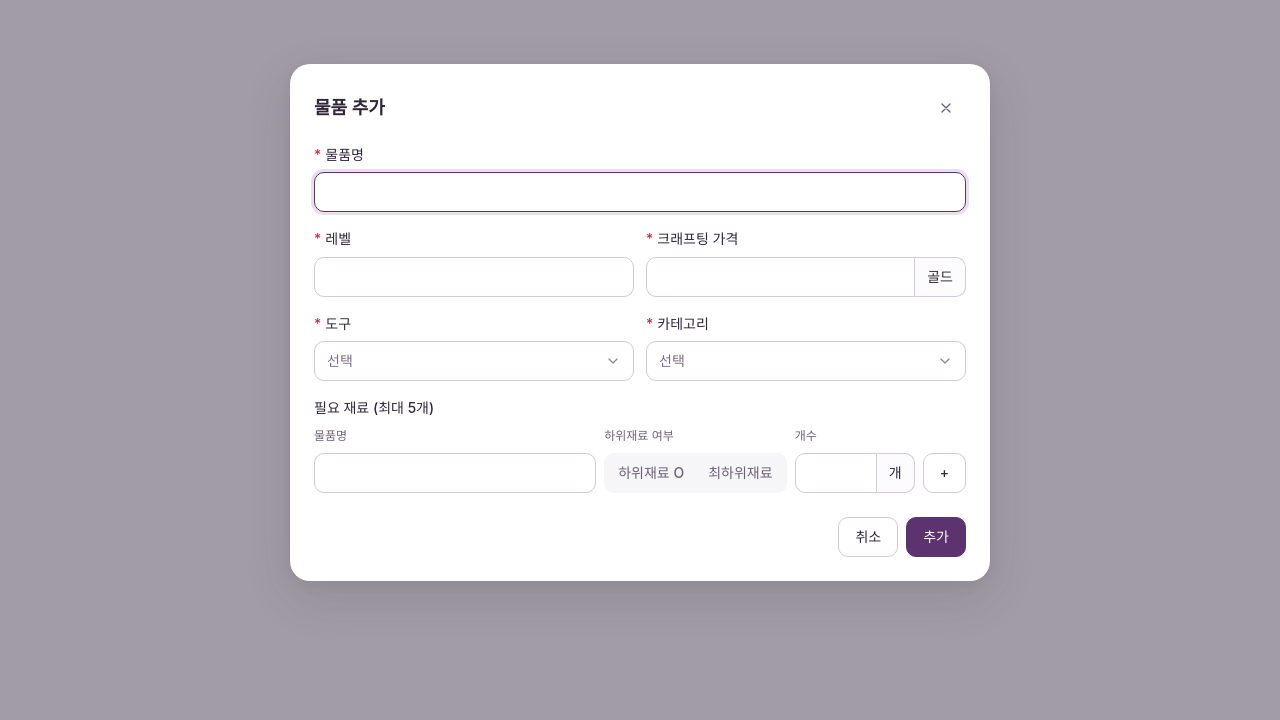
ProductModal 재료 참조 › 이름으로 하위재료 여부를 정해 주고, 직접 고른 뒤에는 바꾸지 않는다
Type "판자" into the field labelled "물품명" in the row of "하위재료 O" at x=455, y=473, box [327, 454, 583, 492]
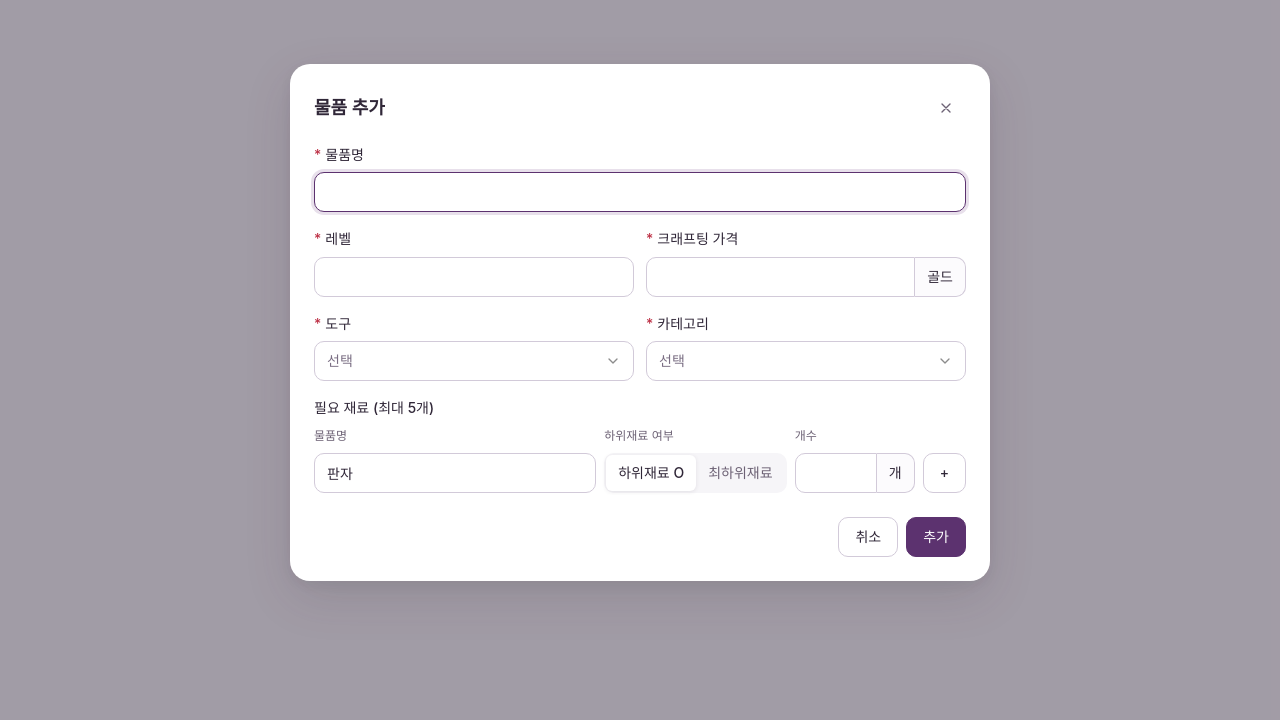
Expected: the radio button labelled "하위재료 O" is checked, [606, 455, 696, 491]
Replace the text in the field labelled "물품명" in the row of "하위재료 O" with "원목" at x=455, y=473, box [327, 454, 583, 492]
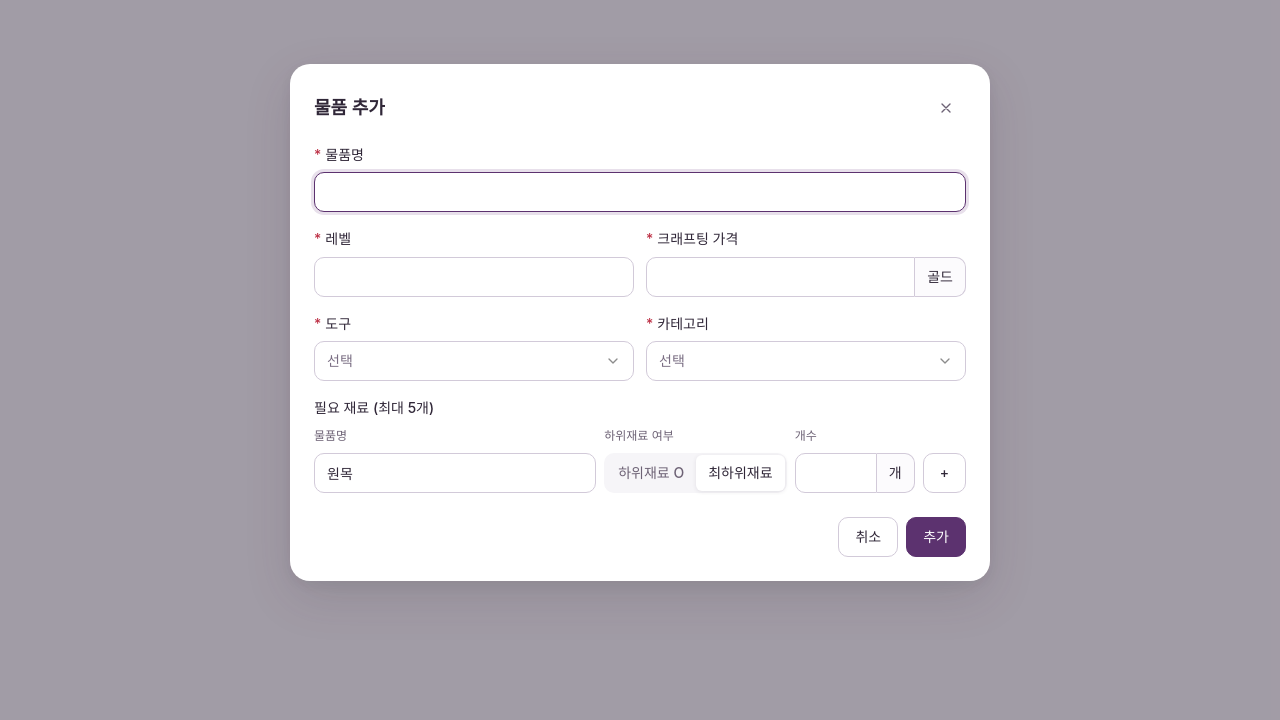
Expected: the radio button labelled "최하위재료" is checked, [696, 455, 785, 491]
Replace the text in the field labelled "물품명" in the row of "하위재료 O" with "은" at x=455, y=473, box [327, 454, 583, 492]
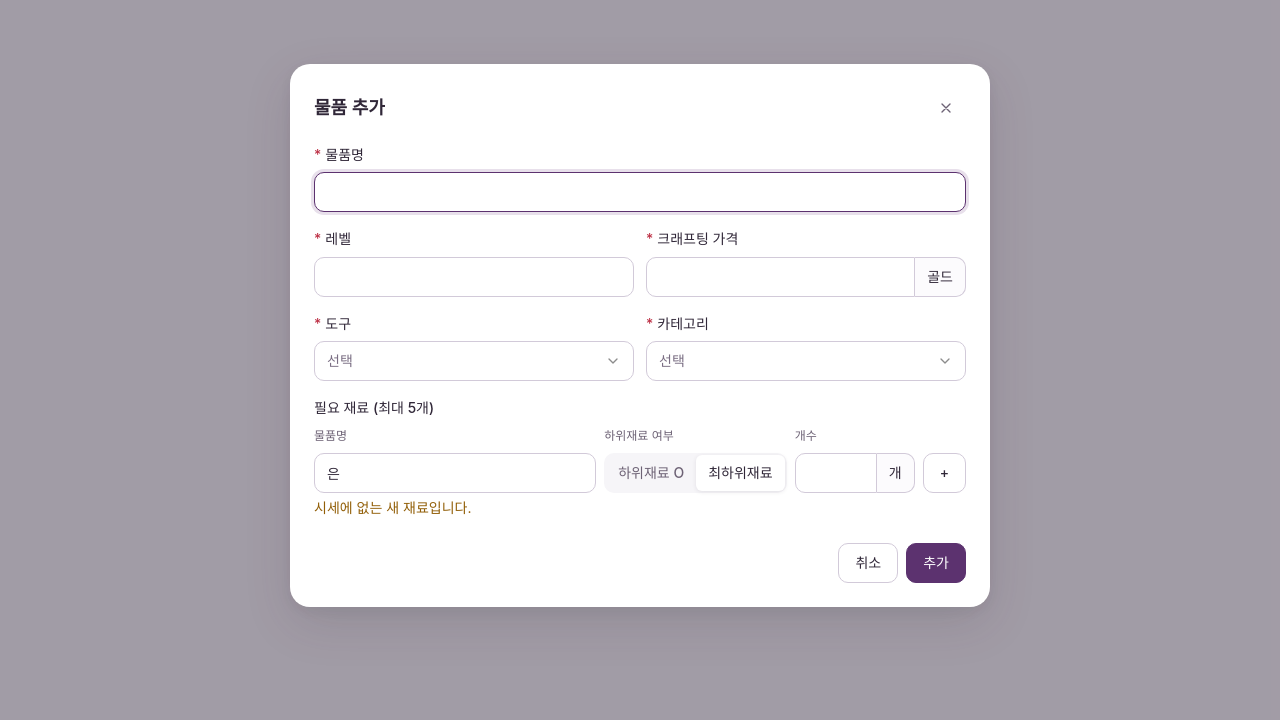
Expected: the radio button labelled "최하위재료" is checked, [696, 455, 785, 491]
Click the radio button labelled "하위재료 O" at x=651, y=472, box [618, 464, 684, 480]
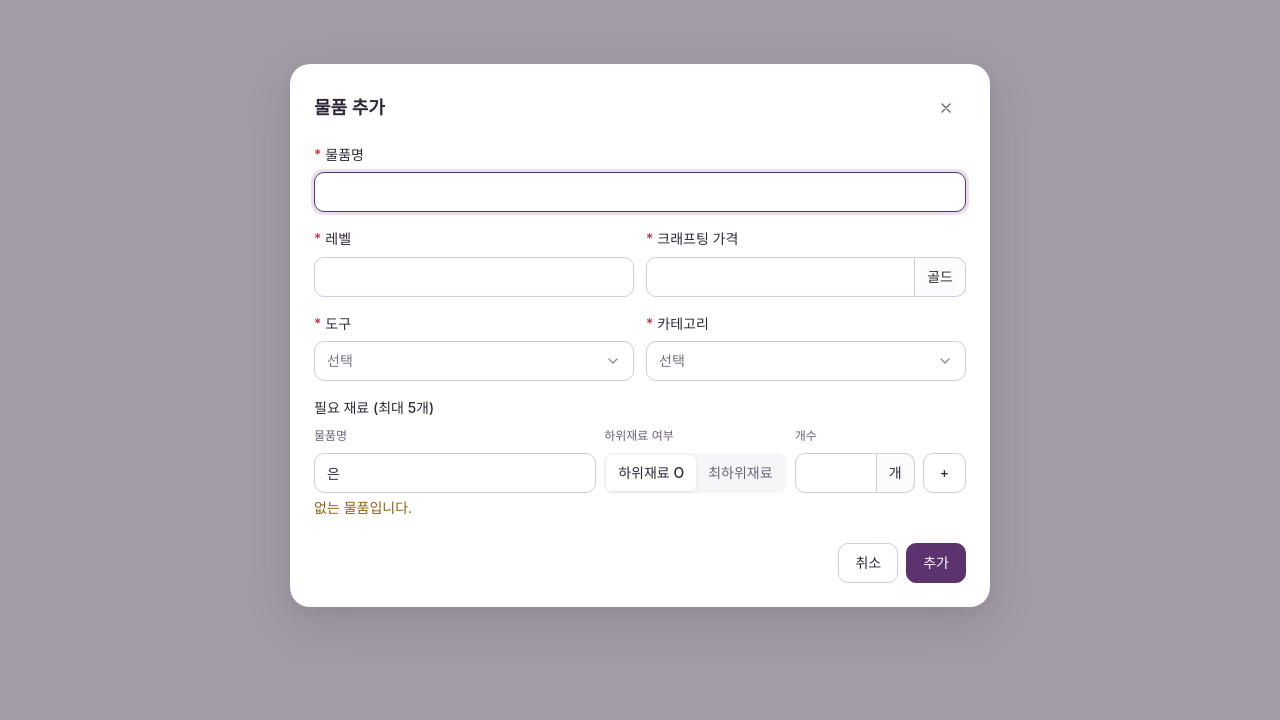
Replace the text in the field labelled "물품명" in the row of "하위재료 O" with "원목" at x=455, y=473, box [327, 454, 583, 492]
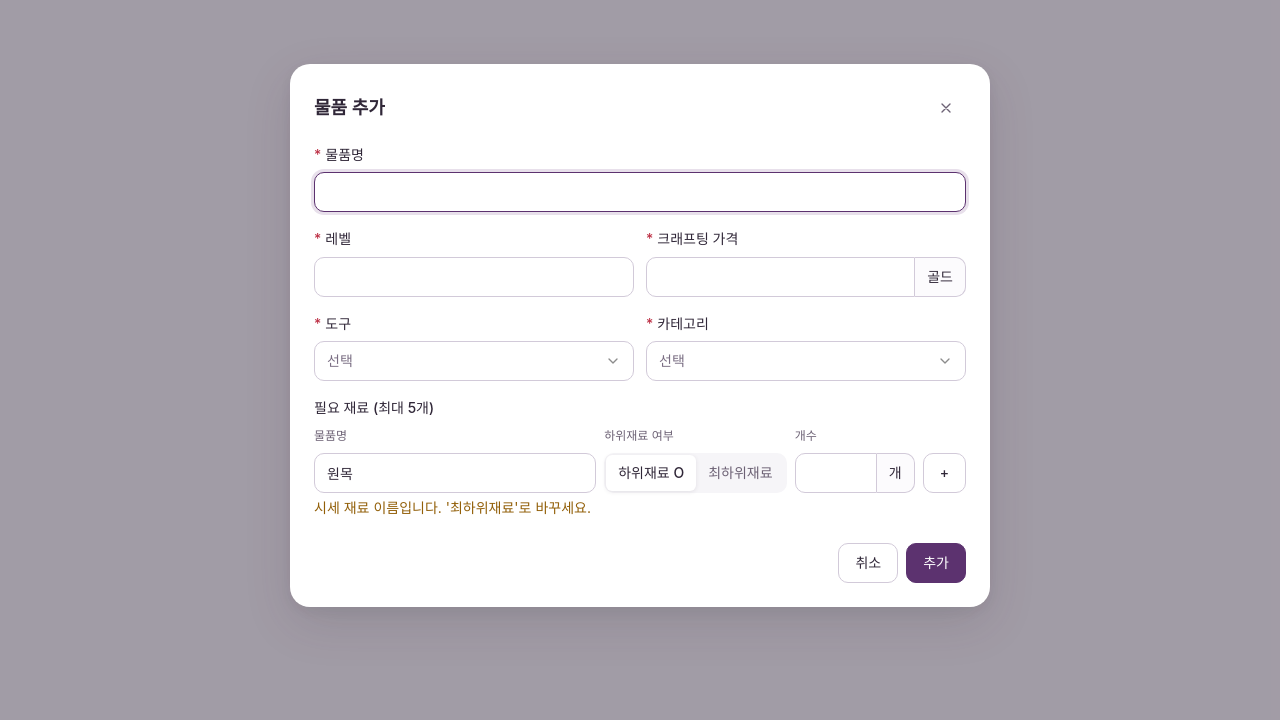
Expected: the radio button labelled "하위재료 O" is checked, [606, 455, 696, 491]
Expected: the text "시세 재료 이름입니다. '최하위재료'로 바꾸세요." is shown, [314, 499, 591, 516]
